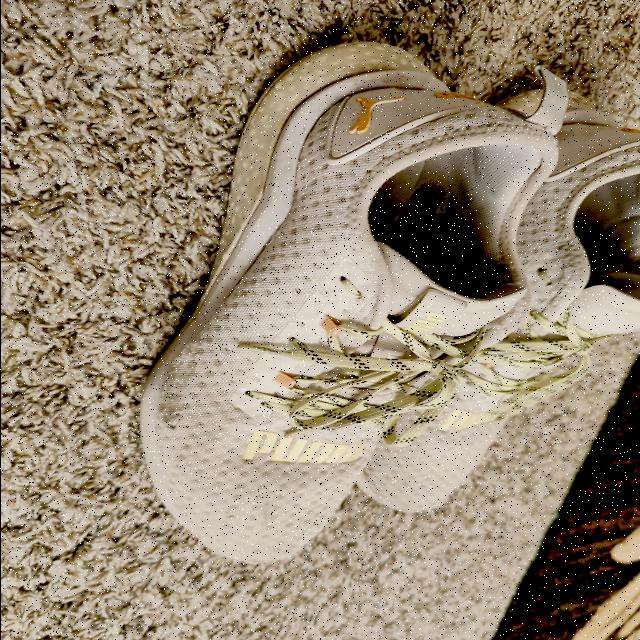white shoes: (142, 42, 640, 560)
